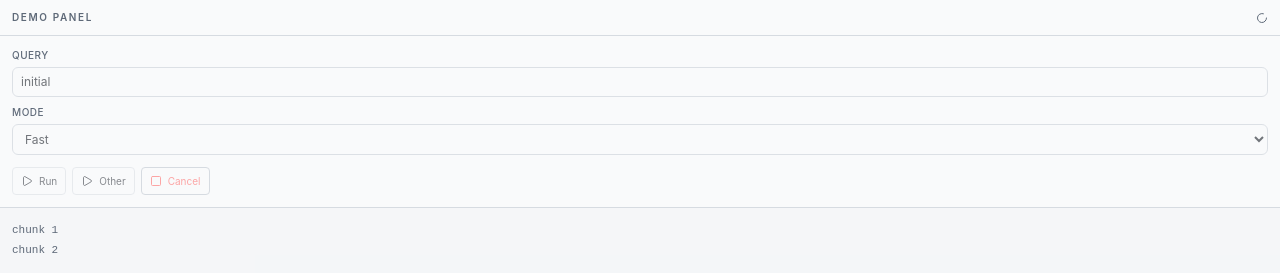
Test: PluginPanel › streams output and exposes cancel while a command is running
This screenshot has width=1280, height=273.
Earlier steps of the test are not shown.
Check: the text named "Demo panel output" shows "chunk 1", box [12,224,58,256]
Click the button "Cancel": [175, 181] box [141,167,210,195]
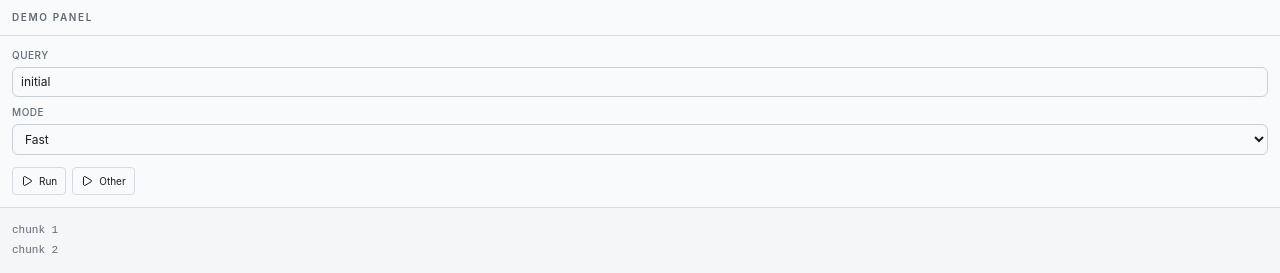
Check: the text named "Demo panel output" shows "chunk 1", box [12,224,58,256]
Check: the button "Cancel" is gone
